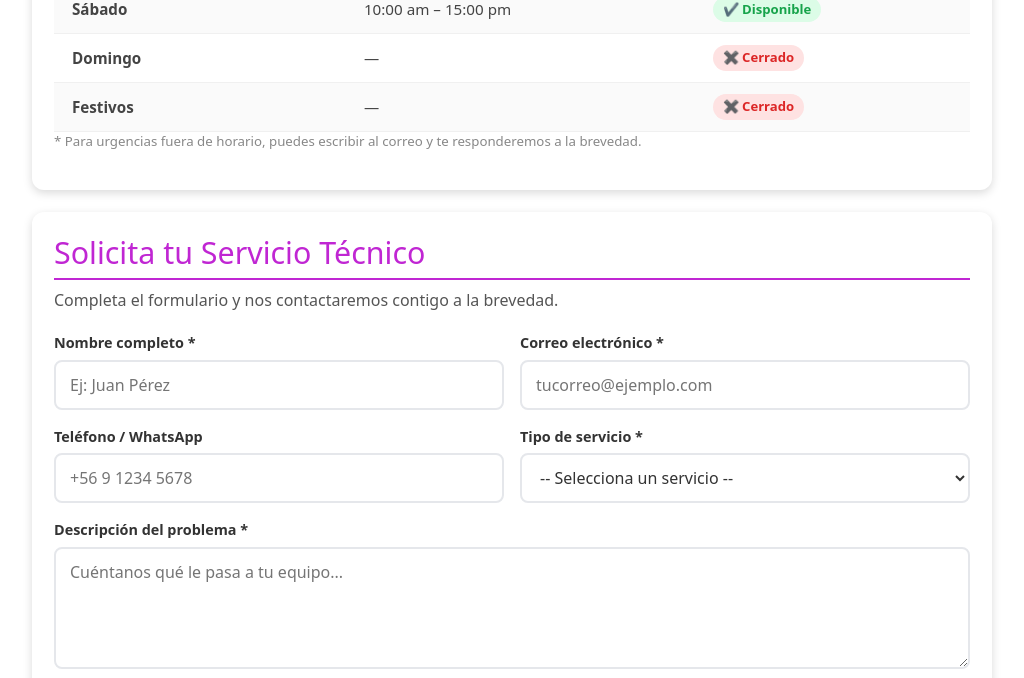
it: TechnicalServicePage › validates and confirms a service request
(page scrolled)
In the field labelled "Nombre completo *": (279, 385) [54,360,504,410], type "Juan Pérez"
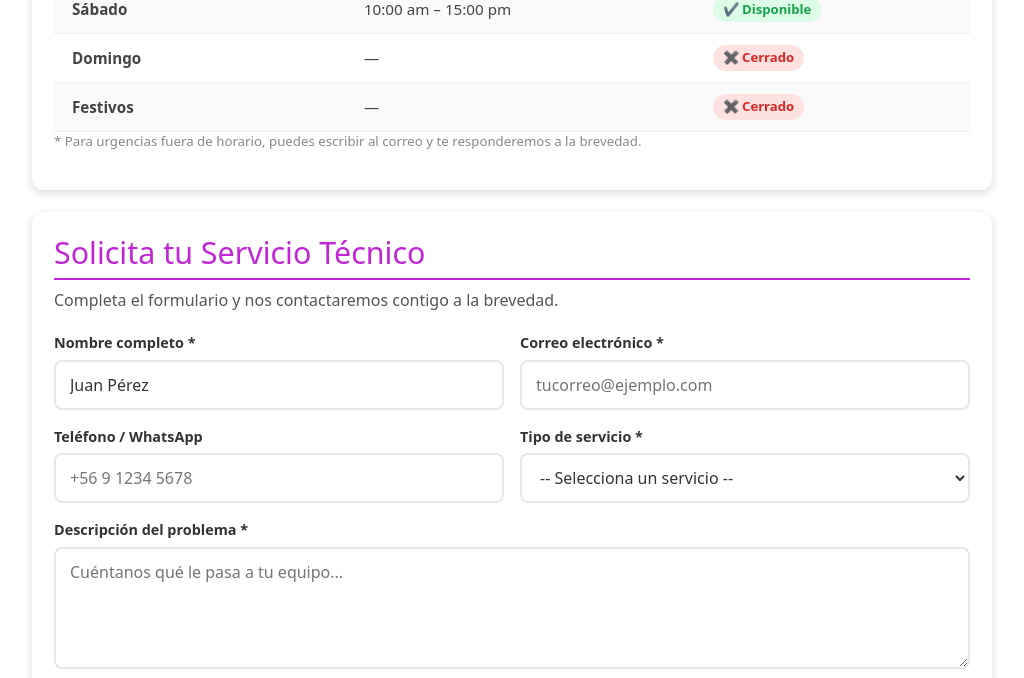
In the field labelled "Correo electrónico *": (745, 385) [520,360,970,410], type "juan@example.com"
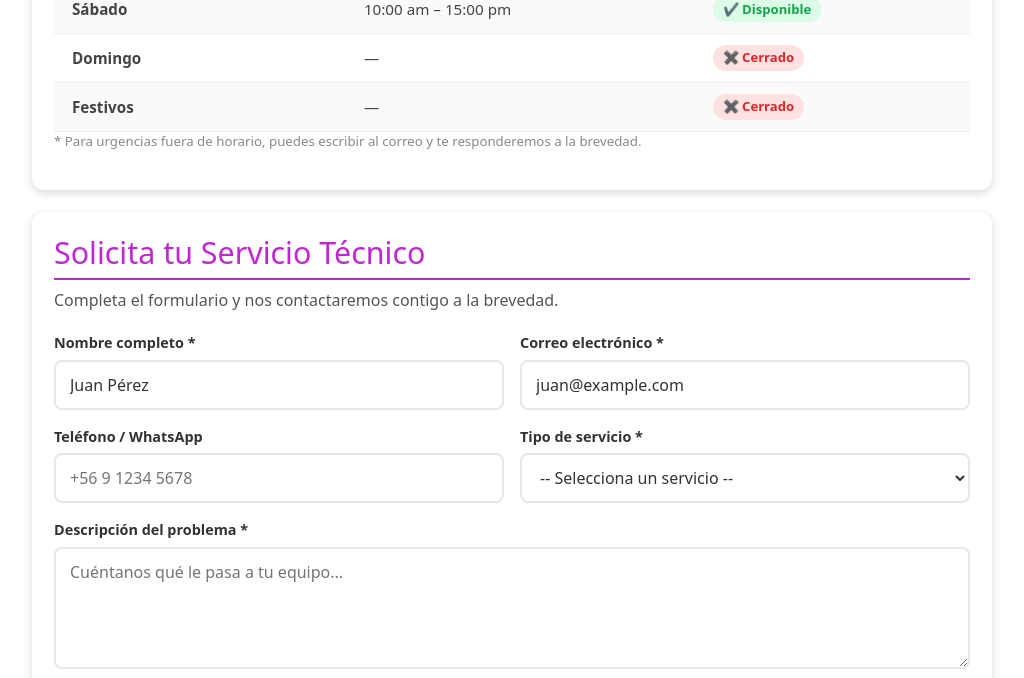
Select "Diagnóstico de PC Gamer" in the dropdown labelled "Tipo de servicio *": (745, 478) [520,453,970,503]
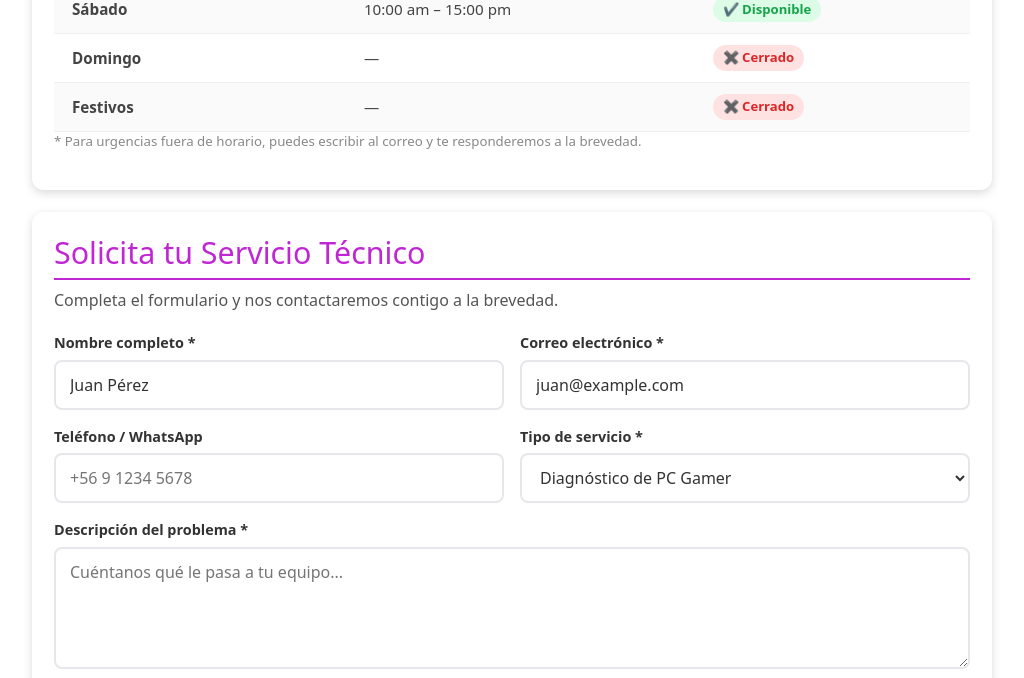
In the text box labelled "Descripción del problema *": (512, 608) [54,547,970,669], type "El equipo se sobrecalienta."
(page scrolled)
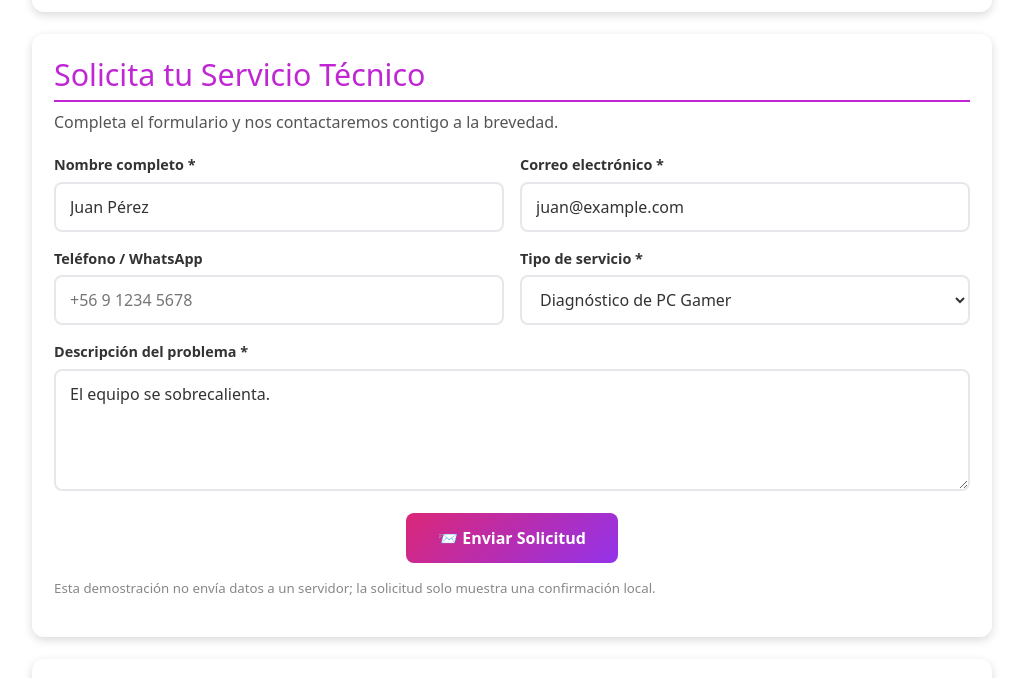
Submit the form labelled "Nombre completo *"
(page scrolled)
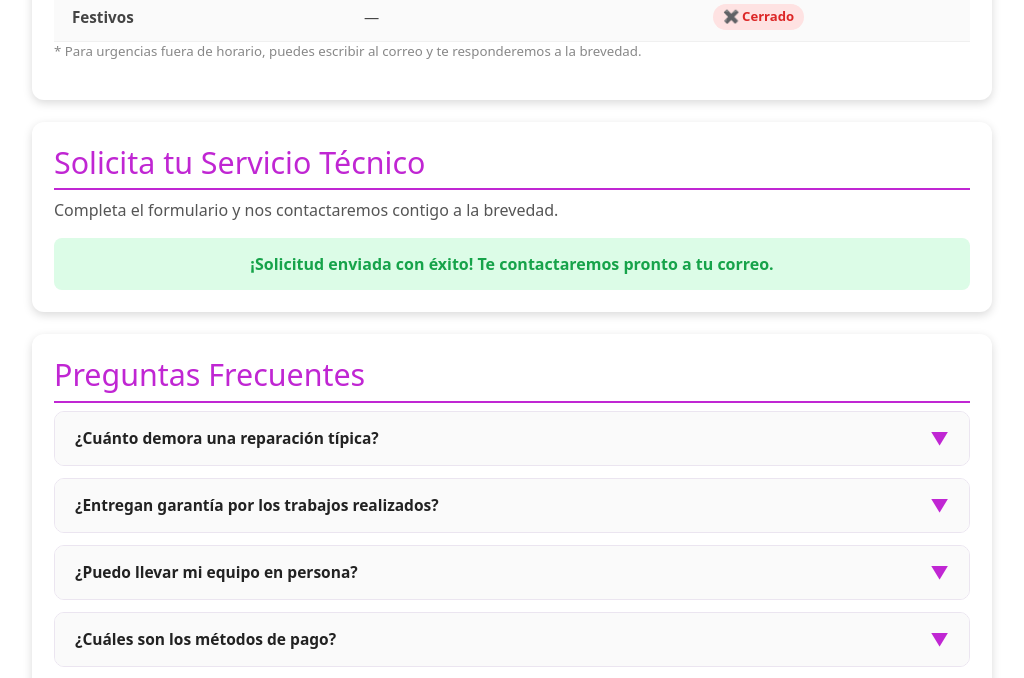
Expected: the message shows "Solicitud enviada con éxito", [250,253,774,275]
Expected: the button "📨 Enviar Solicitud" is gone
